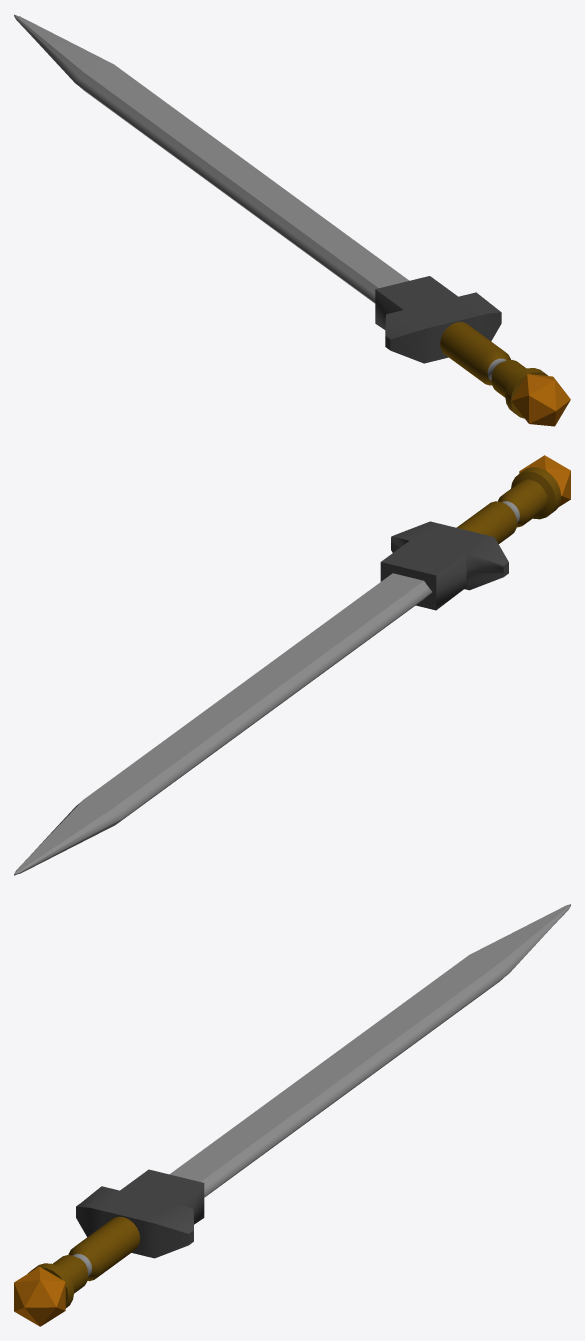
File: long_thin_sword.fbx
3 views of the same model, one above another, from view 1: azimuth 30°, elevation 25°; view 2: azimuth 150°, elevation 25°; view 3: azimuth 330°, elevation 25° (orthographic).
Parts seen in each view (by area): view 1: polySurface284; view 2: polySurface284; view 3: polySurface284.
Part boxes in pixels (x1,y1,x2,y2): polySurface284: [14, 14, 570, 426]; polySurface284: [14, 455, 570, 875]; polySurface284: [14, 904, 570, 1326].
Bounding box in the file's own units: 41.79 × 16.66 × 352.
